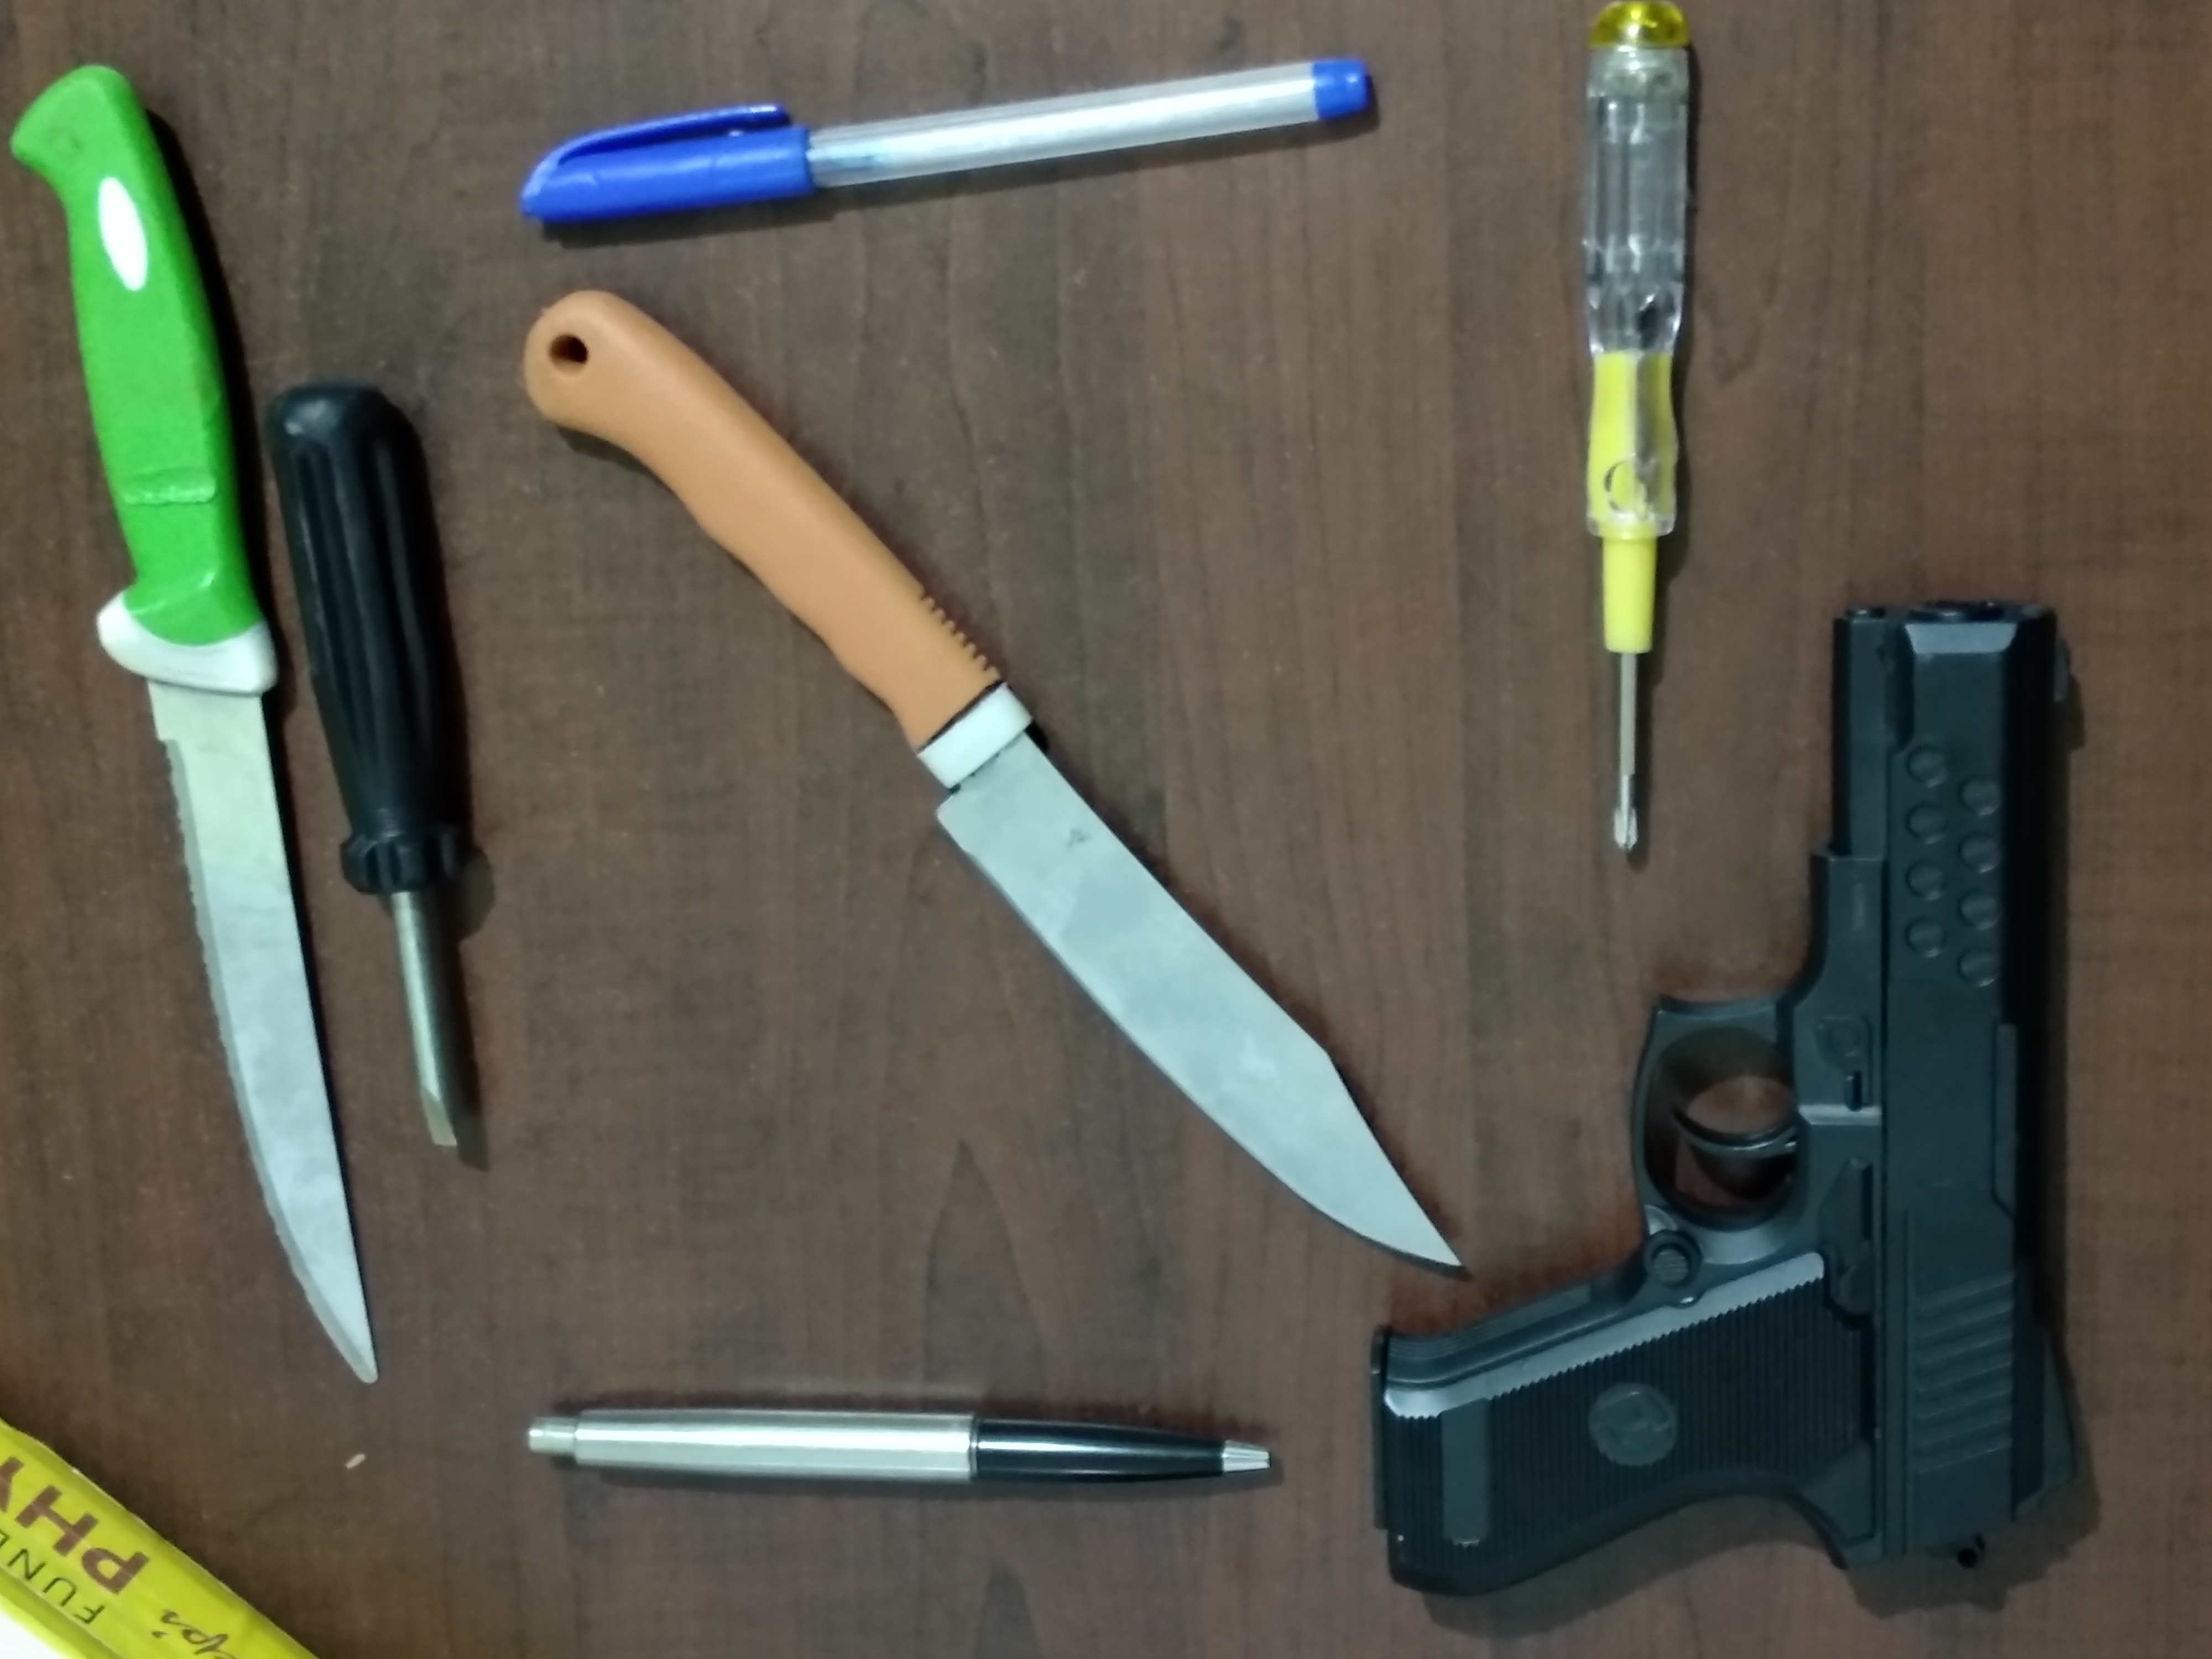gun: (1338, 579, 2148, 1638)
knife: (509, 286, 1472, 1295), (14, 35, 394, 1412)
none: (489, 30, 1399, 239), (517, 1366, 1292, 1523)
none3: (260, 380, 531, 1164), (1559, 0, 1700, 882)
